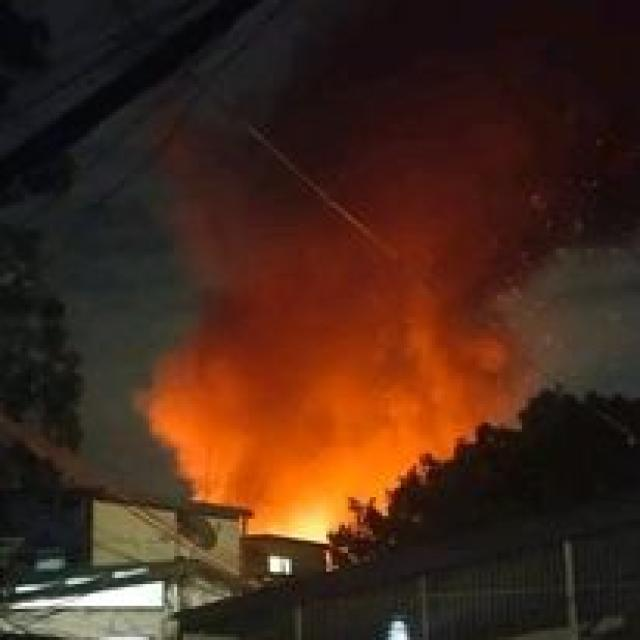Fire: (219, 456, 358, 542)
Smoke: (210, 145, 514, 404), (319, 13, 606, 286), (126, 338, 450, 496)
